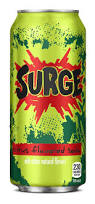can: (7, 6, 90, 194)
